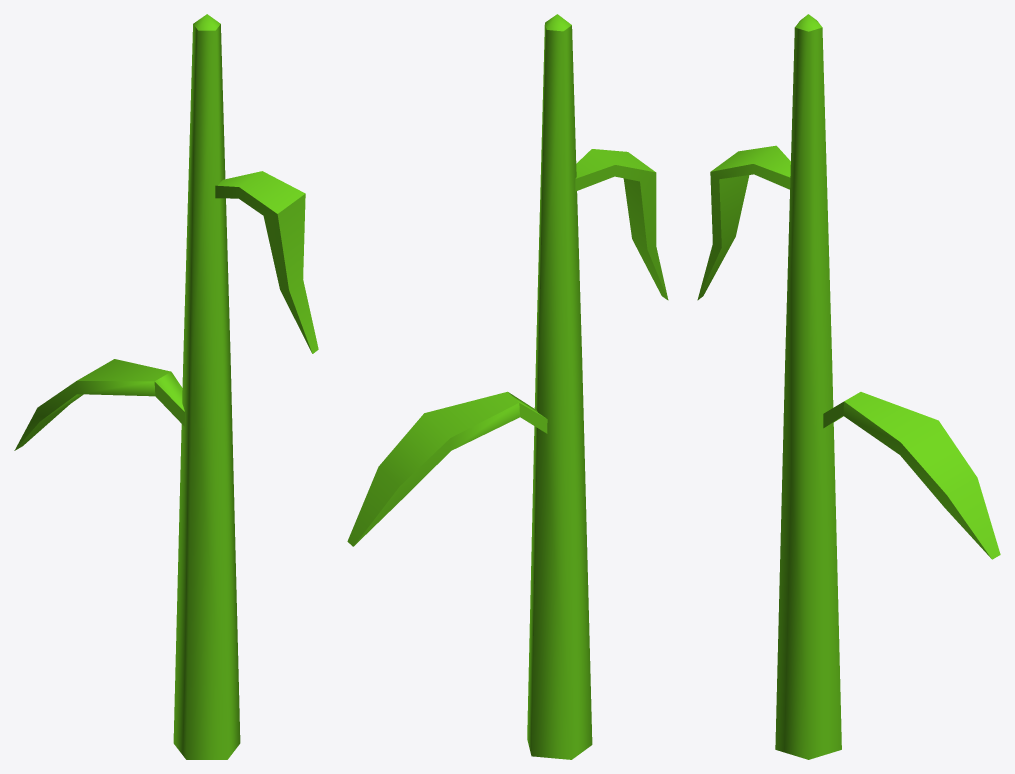
File: SM_Wheat_1_a.FBX
The picture shows the model from 3 angles, left to right: view 1: azimuth 90°, elevation 25°; view 2: azimuth 150°, elevation 25°; view 3: azimuth 270°, elevation 25°; orthographic projection.
Visible parts, largest first — view 1: Wheat1; view 2: Wheat1; view 3: Wheat1.
Part boxes in pixels (x1,y1,x2,y2): Wheat1: [14, 14, 318, 759]; Wheat1: [347, 14, 668, 759]; Wheat1: [697, 14, 1000, 759].
Bounding box in the file's own units: 0.5984 × 2.31 × 0.8669.
